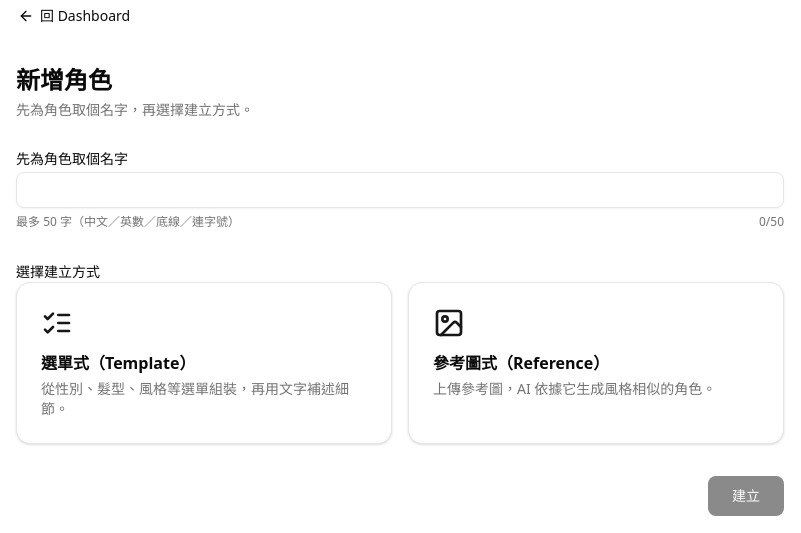
Test case: NewCharacterPage › updates the live character counter as the user types
Type "小雅" into the field labelled "先為角色取個名字".
click(400, 190); type("小雅")  # box [16,172,784,208]
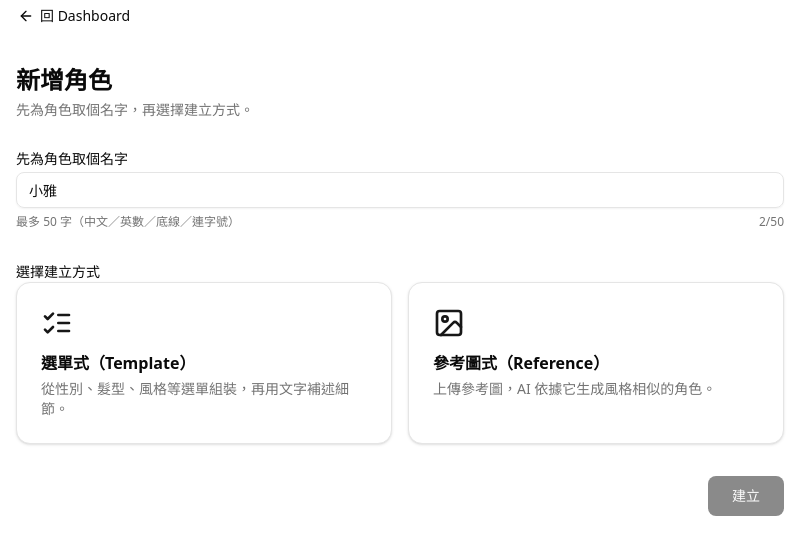
Result: the text with test id "name-counter" reads "2/50" at [759,214,784,230]
